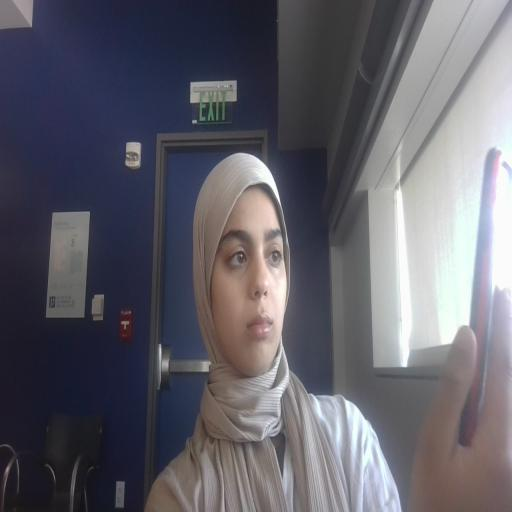phone: (461, 109, 512, 485)
